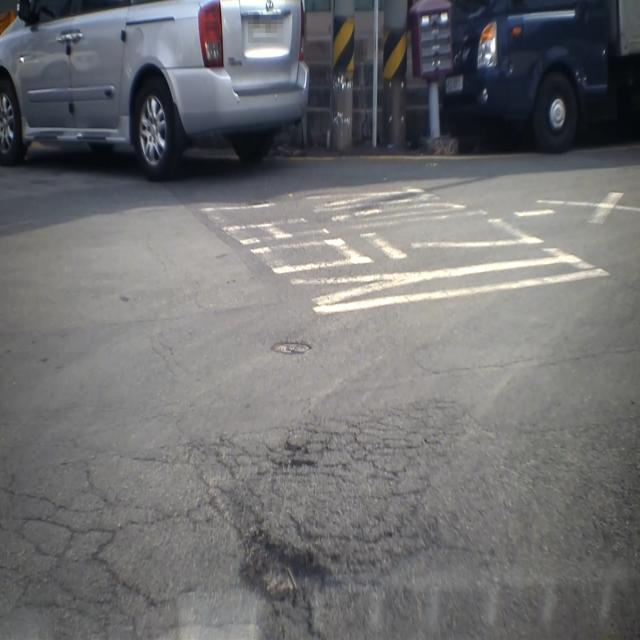Pothole: (237, 515, 339, 609)
